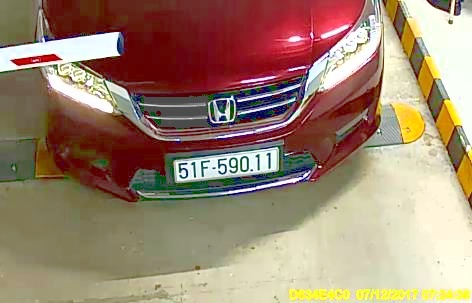plate: (172, 149, 284, 183)
